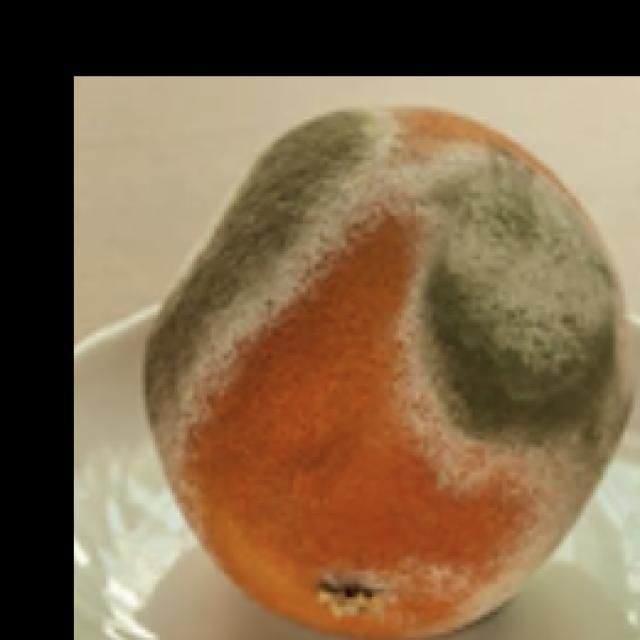sangat-busuk: (145, 109, 632, 639)
